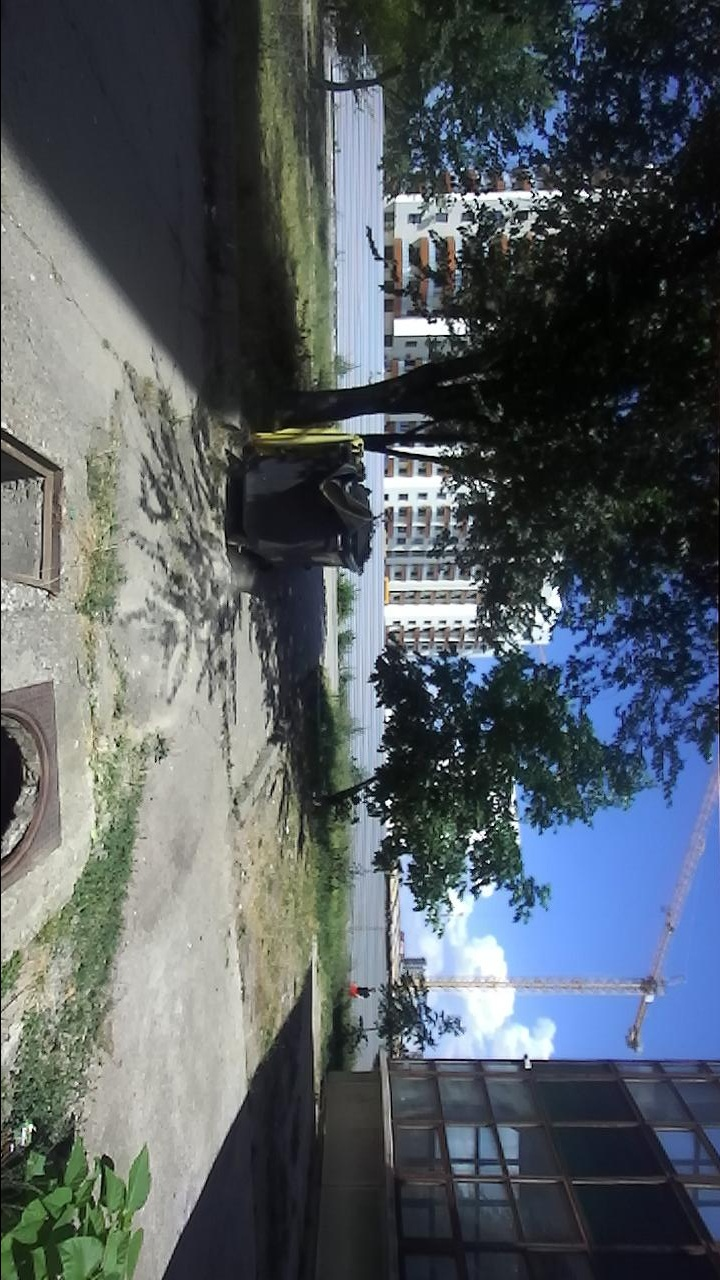drain: (0, 423, 65, 597), (1, 697, 53, 889)
